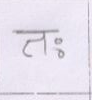anusvara: (55, 39, 62, 44)
